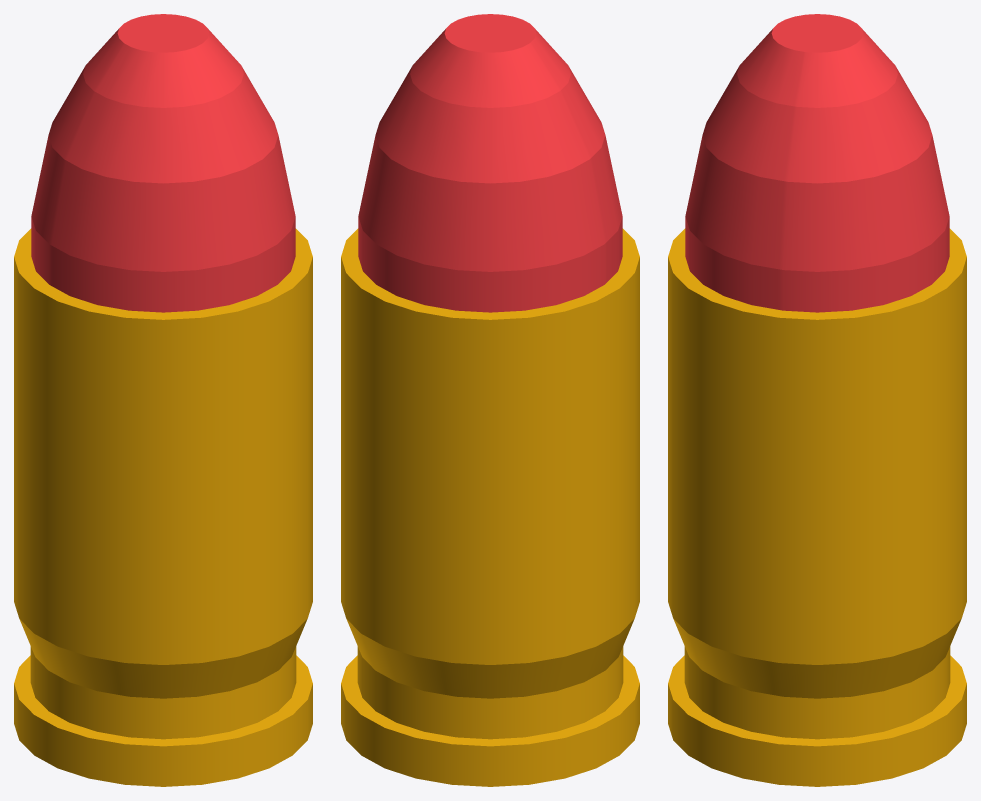
The model's file is ammo_uzi.fbx.
3 renders of one model, left to right at view 1: azimuth 30°, elevation 25°; view 2: azimuth 150°, elevation 25°; view 3: azimuth 270°, elevation 25°, orthographic.
Parts seen in each view (by area): view 1: Group (×2); view 2: Group (×2); view 3: Group (×2).
Part boxes in pixels (bbox=[...]): Group (×2): bbox=[14, 14, 312, 786]; Group (×2): bbox=[341, 14, 639, 786]; Group (×2): bbox=[668, 14, 966, 786].
Bounding box in the file's own units: 0.2553 × 0.6508 × 0.2553.
